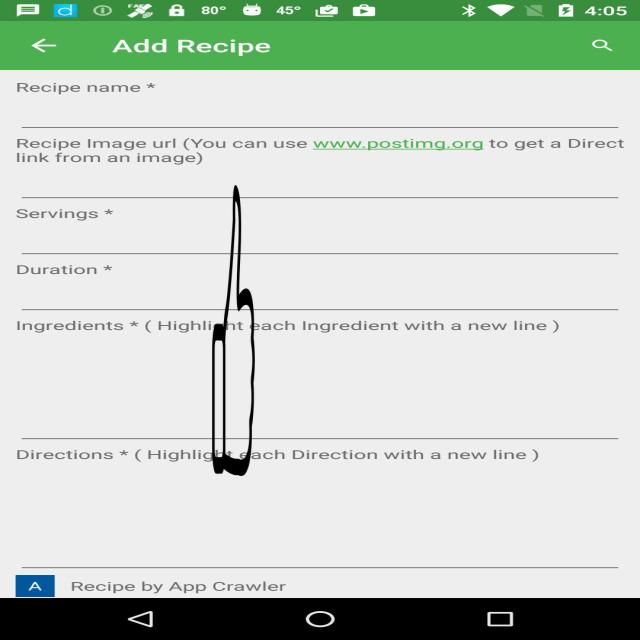privacy zuckering: (212, 185, 256, 476)
